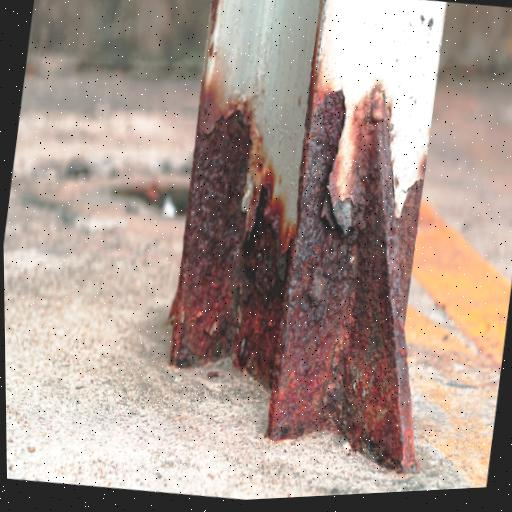corrosion: (262, 77, 462, 470), (160, 73, 315, 393)
